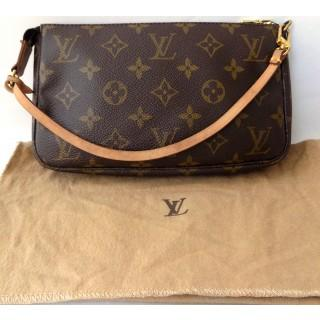LOUIS-VUITTON: (147, 31, 180, 60), (49, 34, 80, 63), (245, 125, 272, 156), (242, 33, 267, 63), (160, 197, 190, 218), (148, 126, 178, 147)
